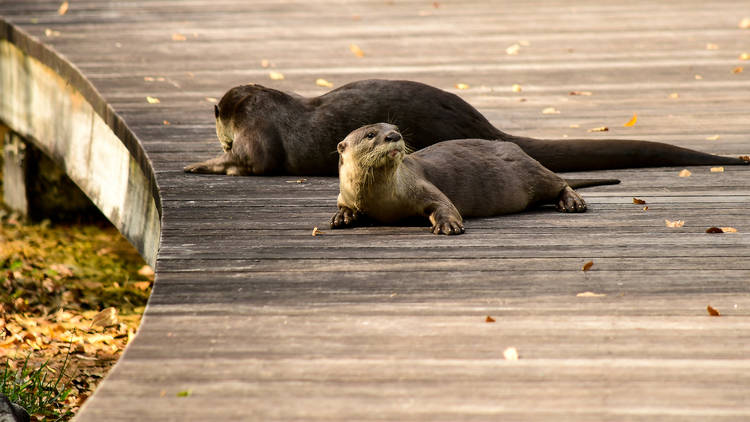otter: (178, 77, 748, 172), (319, 119, 625, 238)
